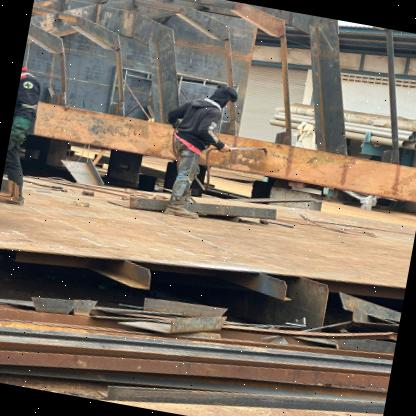bota: (162, 192, 203, 221)
